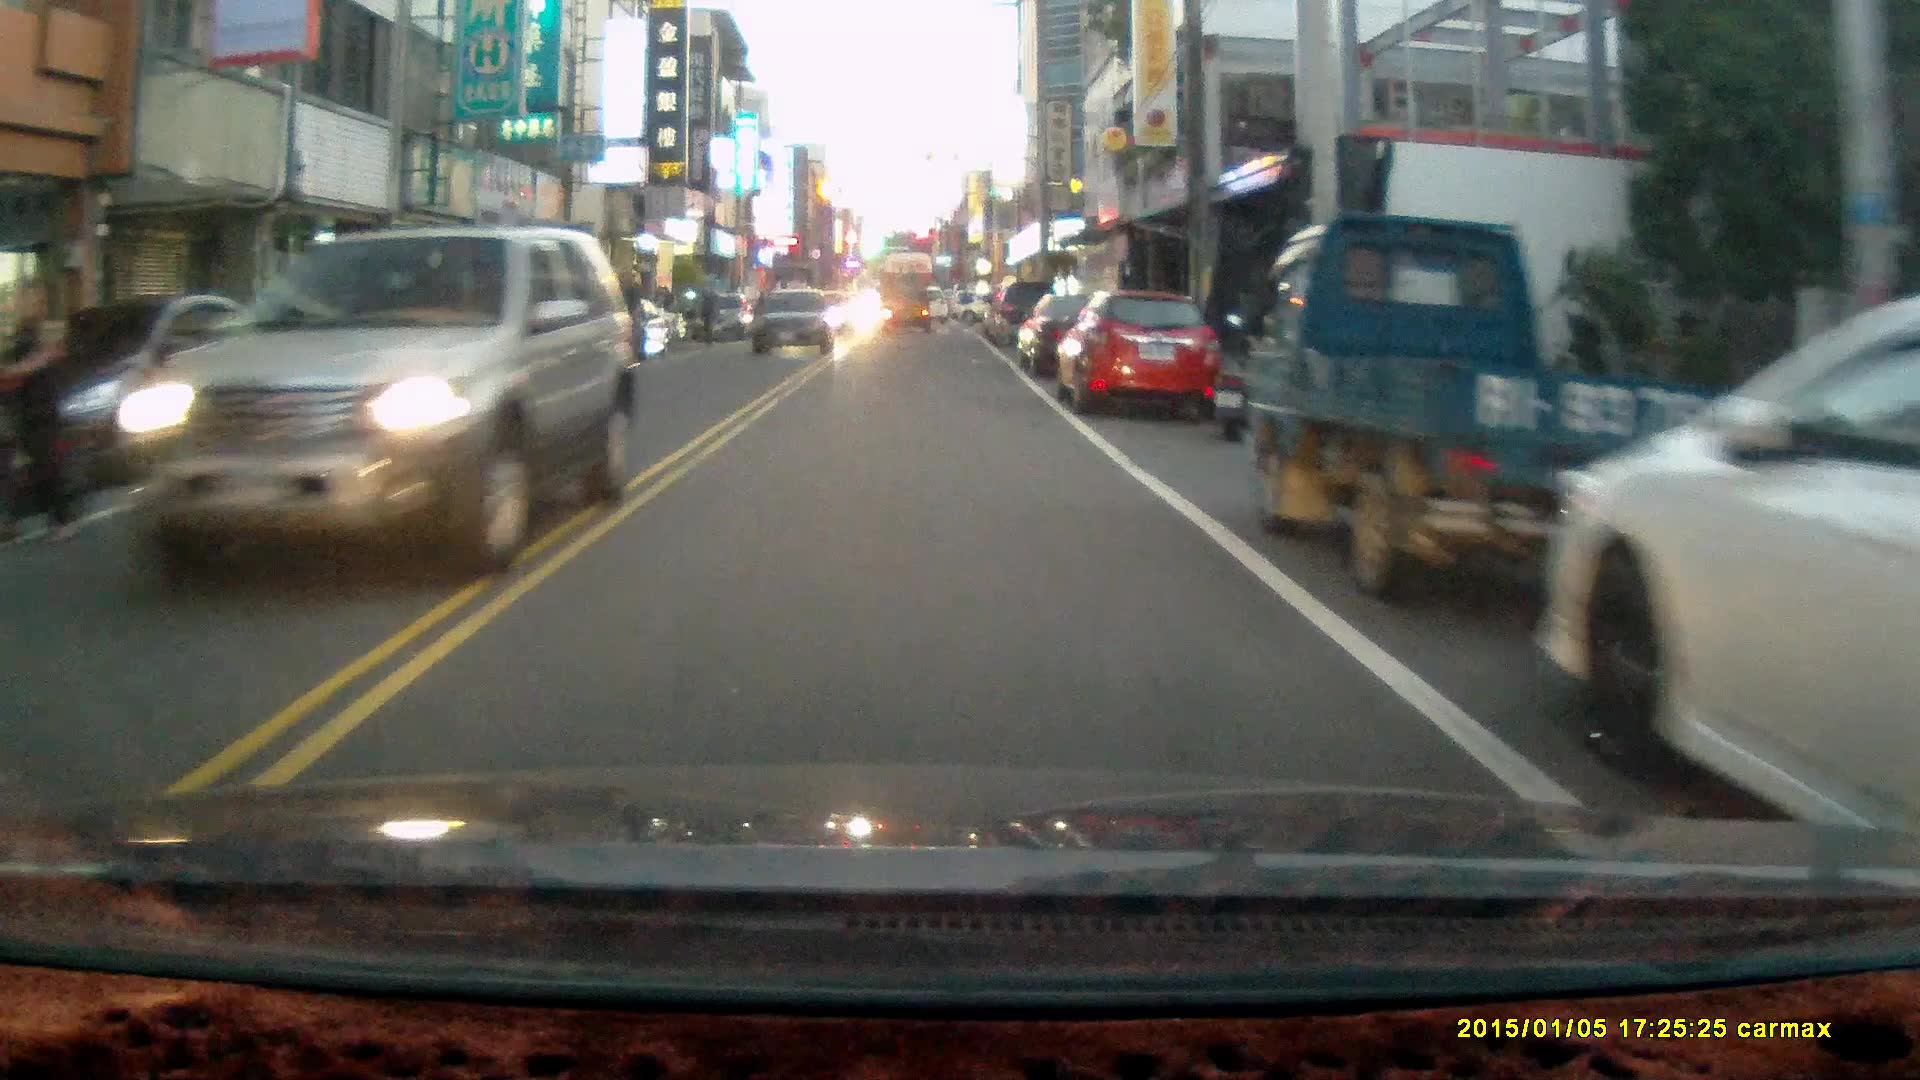pedestrian: (695, 282, 717, 344)
rider: (0, 273, 105, 552)
vehicle: (1534, 308, 1920, 881), (1241, 213, 1745, 607), (113, 228, 633, 576), (1059, 293, 1221, 420), (1010, 287, 1151, 385), (755, 287, 833, 360), (878, 279, 934, 337)
